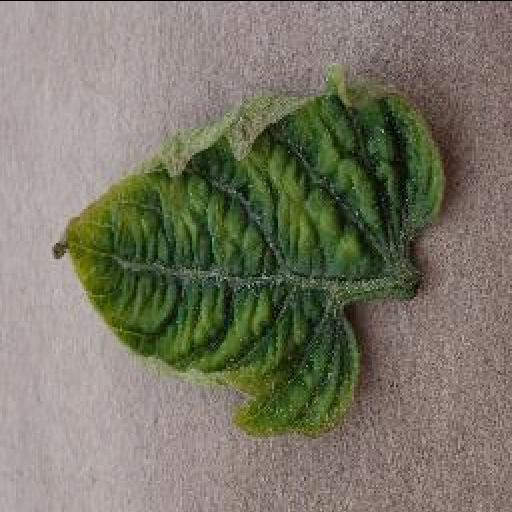disease_tomato: (52, 76, 446, 441)
